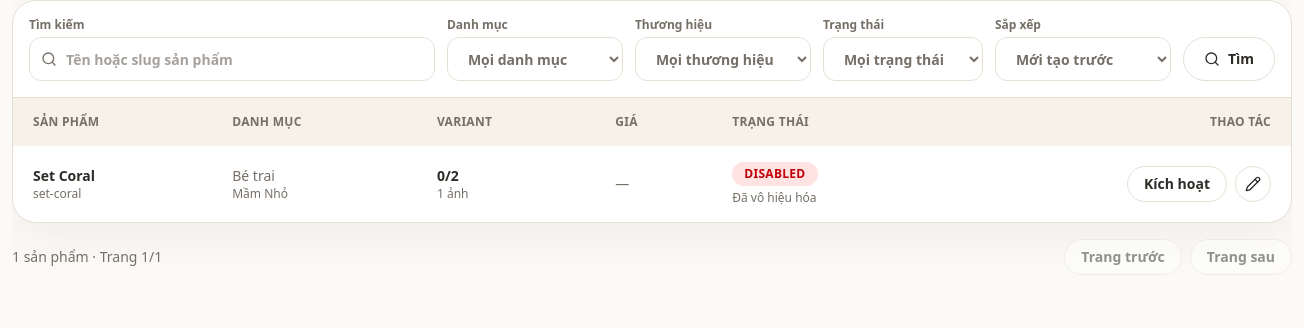
it: AdminProductsList › loads server products and master filters, then activates a product
Expected: the text "Set Coral" is shown, [33,166,95,185]
Expected: the text "DISABLED" is shown, [732,162,818,186]
Click the button "Kích hoạt" at point(1177, 184), box [1127,166,1227,202]
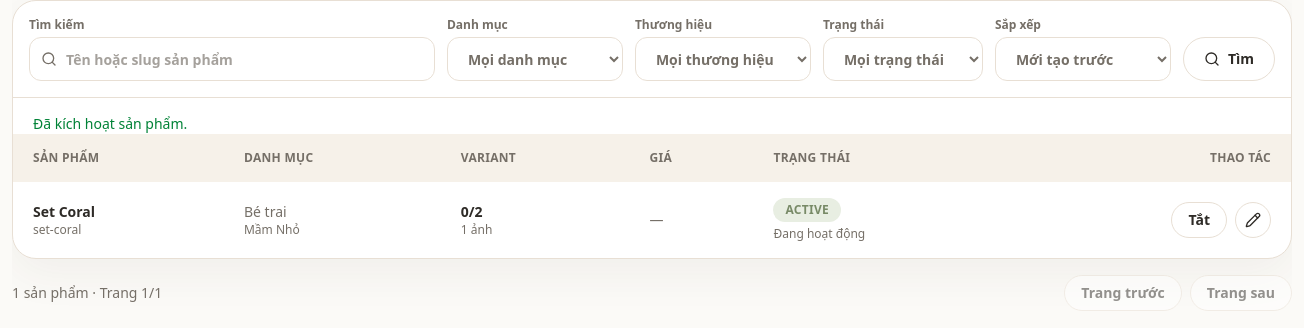
Now the text "Đã kích hoạt sản phẩm." is shown, box [33,114,187,133]
